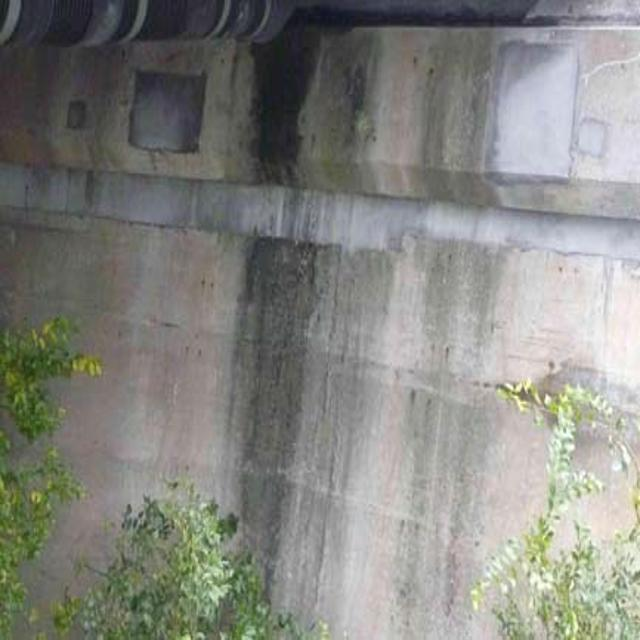leakage: (213, 23, 341, 558)
